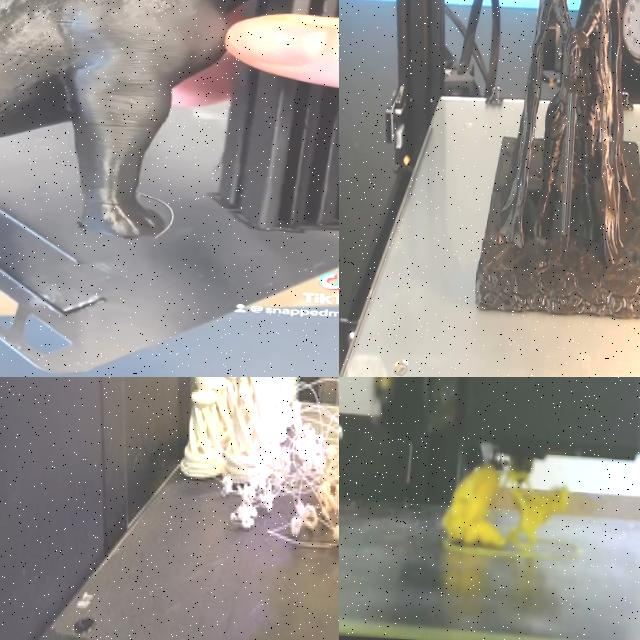spaghetti: (441, 463, 581, 559), (267, 399, 339, 555), (226, 507, 257, 539), (232, 474, 255, 502), (217, 474, 238, 498), (258, 486, 274, 516)
